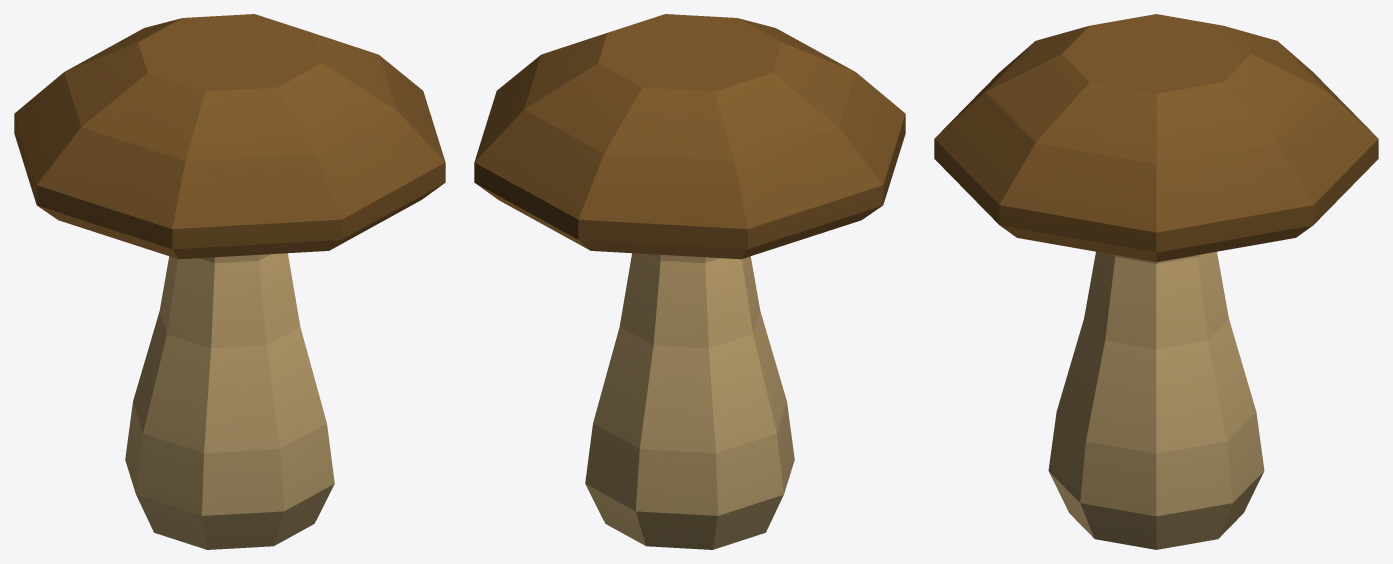
File: Mushroom002.fbx
3 views of the same model, side by side, from view 1: azimuth 30°, elevation 25°; view 2: azimuth 150°, elevation 25°; view 3: azimuth 270°, elevation 25° (orthographic).
Parts seen in each view (by area): view 1: Cylinder.007; view 2: Cylinder.007; view 3: Cylinder.007.
Part boxes in pixels (left/top/right/bottom): Cylinder.007: left=14, top=14, right=445, bottom=549; Cylinder.007: left=474, top=14, right=905, bottom=549; Cylinder.007: left=934, top=14, right=1378, bottom=549.
Size of the model in its own units: 66.79 by 76.16 by 66.79.
